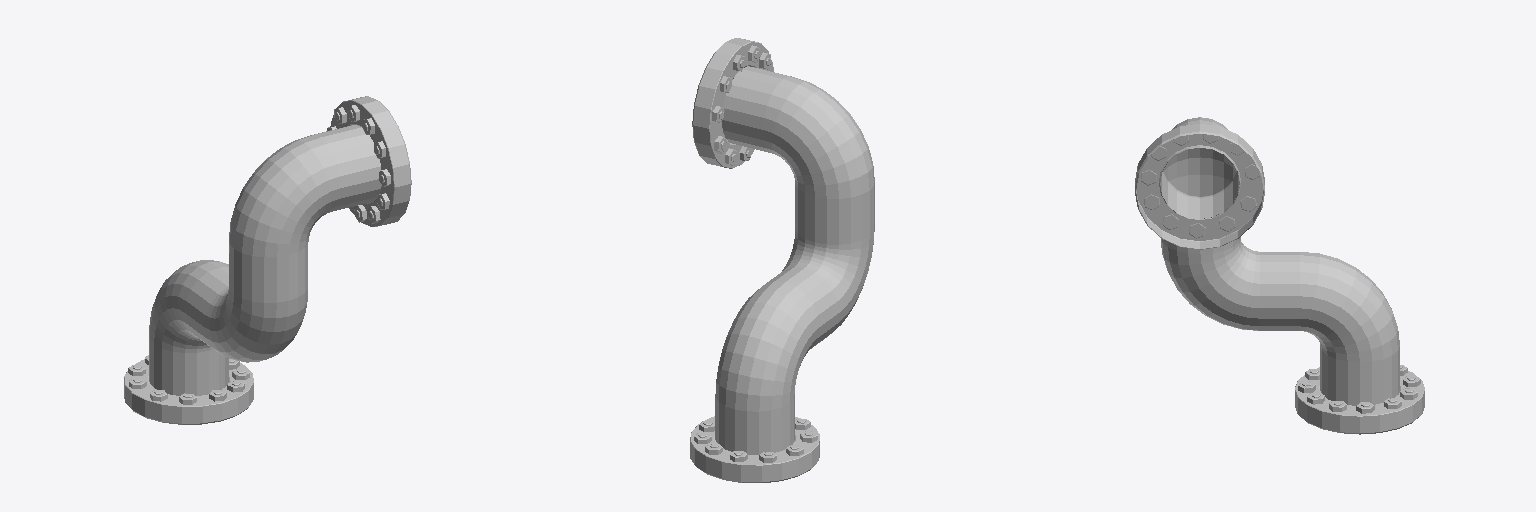
File: CurvePipe_Threebends.obj
3 views of the same model, side by side, from view 1: azimuth 30°, elevation 25°; view 2: azimuth 150°, elevation 25°; view 3: azimuth 270°, elevation 25° (orthographic).
Parts seen in each view (by area): view 1: polySurface99; view 2: polySurface99; view 3: polySurface99.
Boxes of the visible parts, x1,y1,x2,y2 form: polySurface99: [124, 96, 411, 424]; polySurface99: [690, 38, 874, 482]; polySurface99: [1135, 117, 1424, 434].
Bounding box in the file's own units: 153 × 287 × 230.